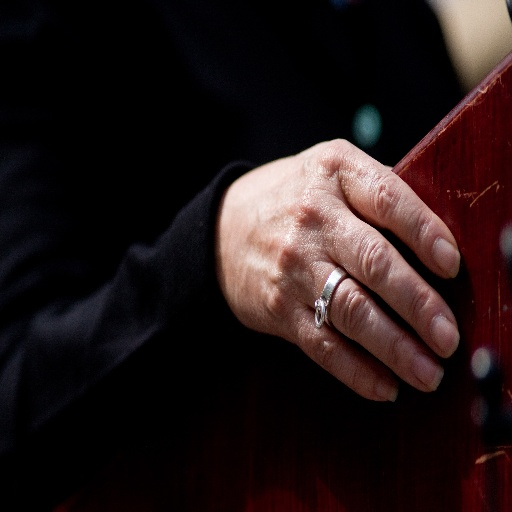hand: (216, 131, 463, 407)
